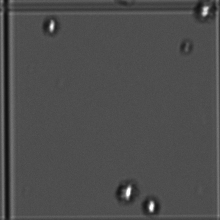Dead Cell: (178, 38, 195, 54)
Living Cell: (192, 2, 218, 28), (114, 178, 139, 204), (38, 14, 63, 38), (141, 192, 161, 217)
